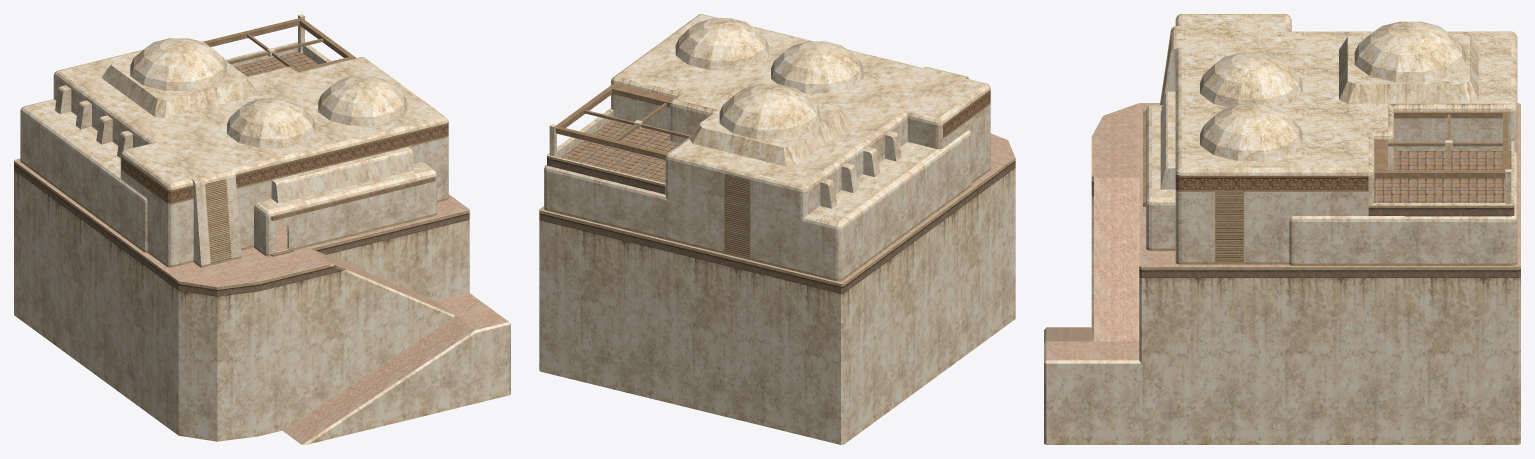
The model's file is ply_tato_house_lg_s01_fp1_r0_mesh_l0.fbx.
3 renders of one model, left to right at view 1: azimuth 30°, elevation 25°; view 2: azimuth 150°, elevation 25°; view 3: azimuth 270°, elevation 25°, orthographic. The views are drawn at different scales.
Visible parts, largest first — view 1: mesh_node; view 2: mesh_node; view 3: mesh_node.
Boxes of the visible parts, box(x1,y1,x2,y2) form: mesh_node: box(14, 14, 510, 444); mesh_node: box(539, 14, 1015, 444); mesh_node: box(1044, 14, 1520, 444).
Bounding box in the file's own units: 32.67 × 29.62 × 40.11.
